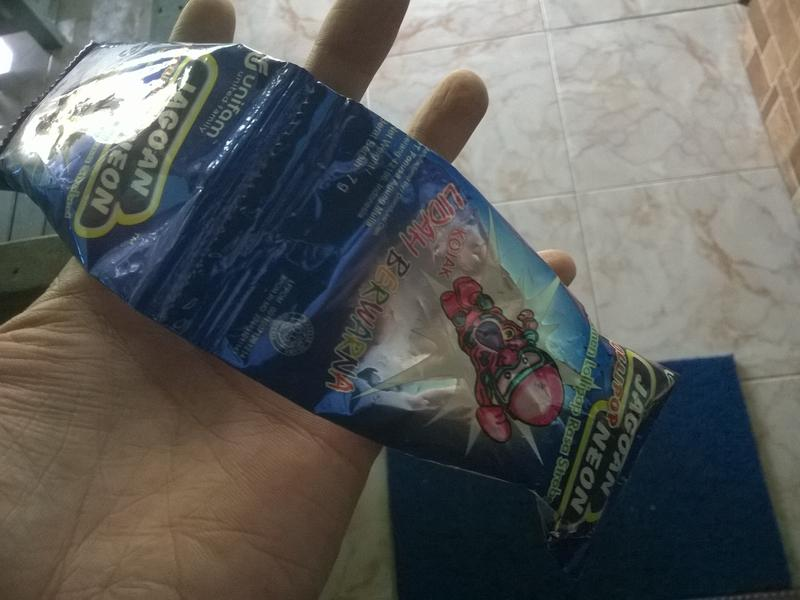jagoan neon: (163, 81, 687, 577), (2, 37, 319, 329)
